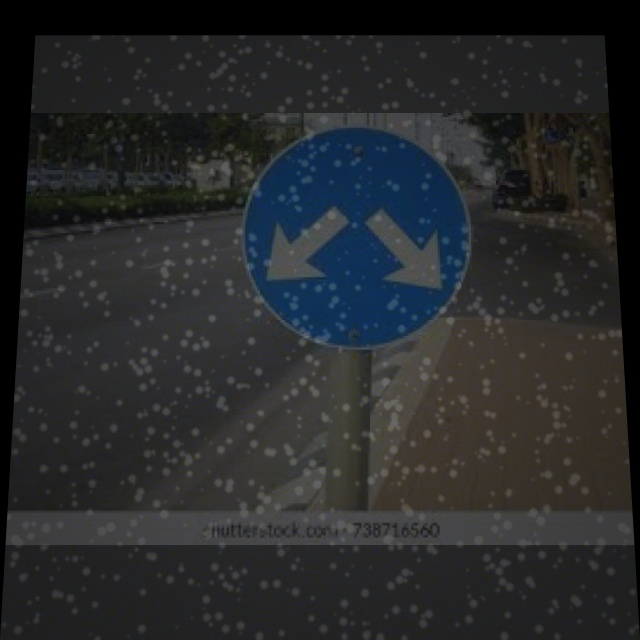Pass_Either_Side: (238, 125, 478, 350)
